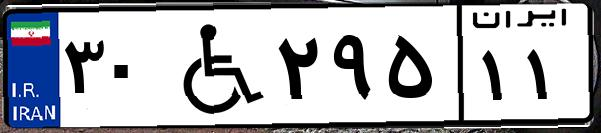0: (110, 28, 158, 98)
1: (475, 38, 525, 113), (525, 38, 570, 115)
2: (270, 28, 330, 110)
3: (57, 26, 110, 100)
5: (385, 28, 445, 110)
9: (330, 28, 385, 110)
ژ (معلولین و جانبازان): (158, 12, 270, 120)
